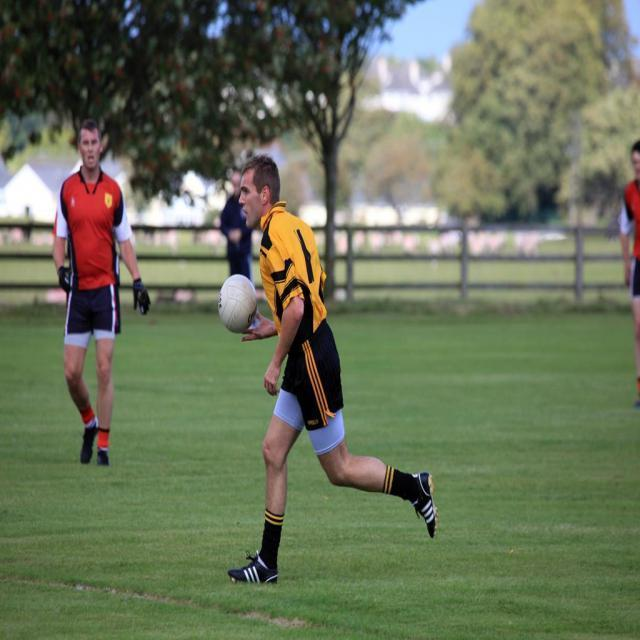ball: (215, 275, 260, 335)
